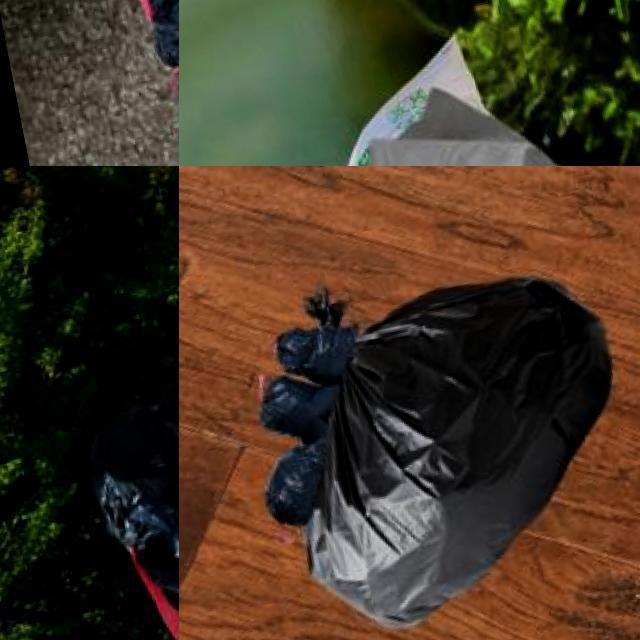waste: (268, 271, 640, 640), (193, 65, 640, 166), (63, 255, 179, 563), (268, 308, 368, 394)
